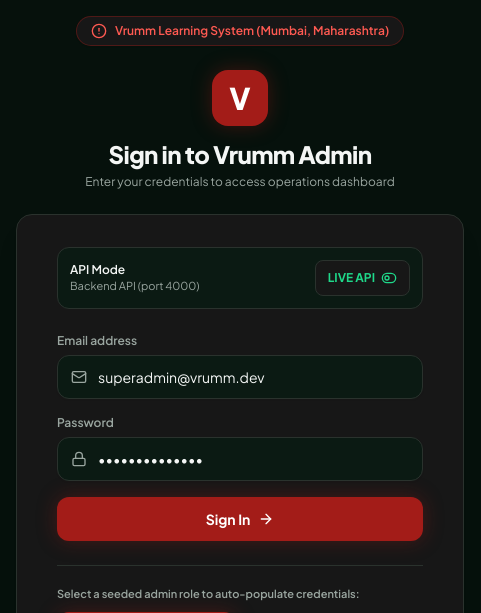
Login Page › shows error message if submitted with empty credentials
Clear the field labelled "Email address" at (240, 377), box [57,355,423,399]
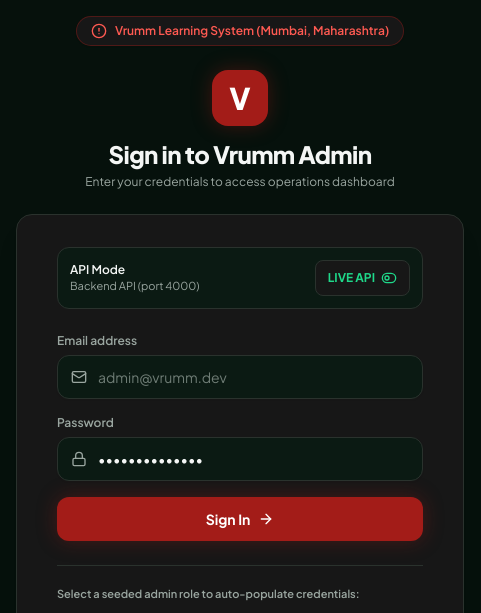
Clear the password field labelled "Password" at (240, 459), box [57,437,423,481]
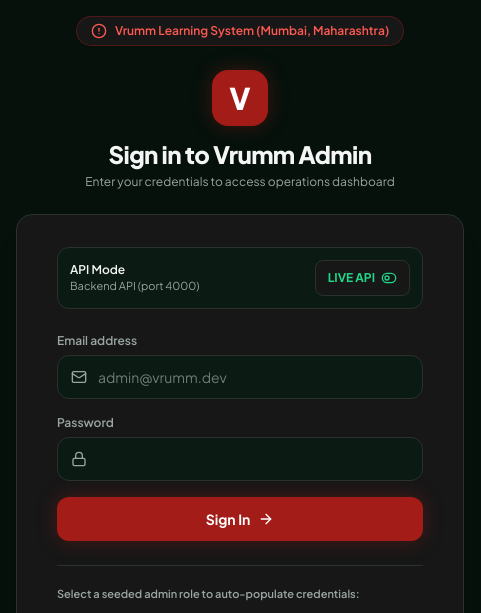
Click the button "Sign In".
click(240, 519)  # box [57,497,423,541]
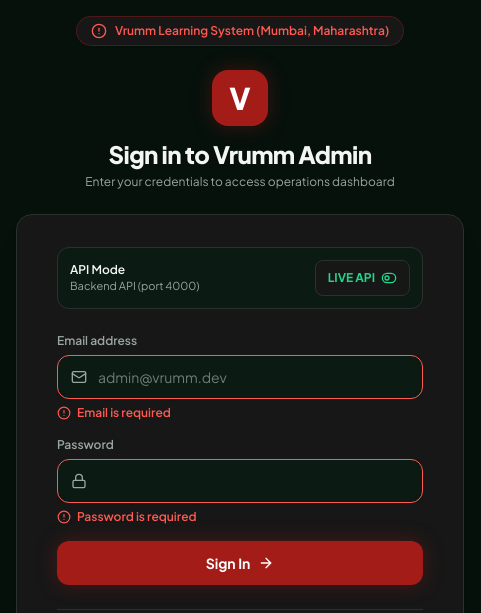
Now the text "Email is required" is shown, box [77,405,171,421]
Now the text "Password is required" is shown, box [77,509,196,525]
